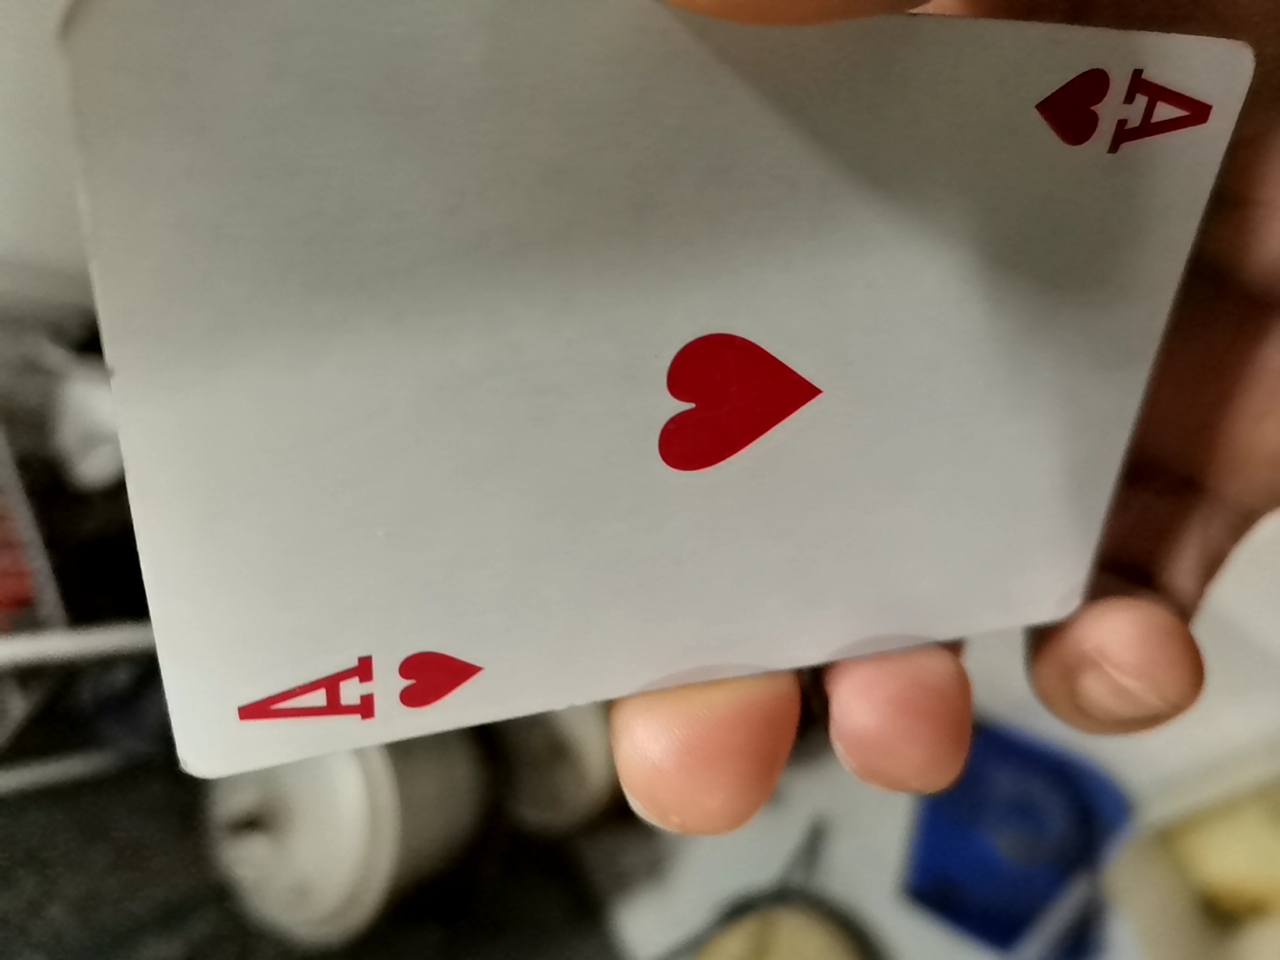hx a: (65, 13, 1215, 770)
